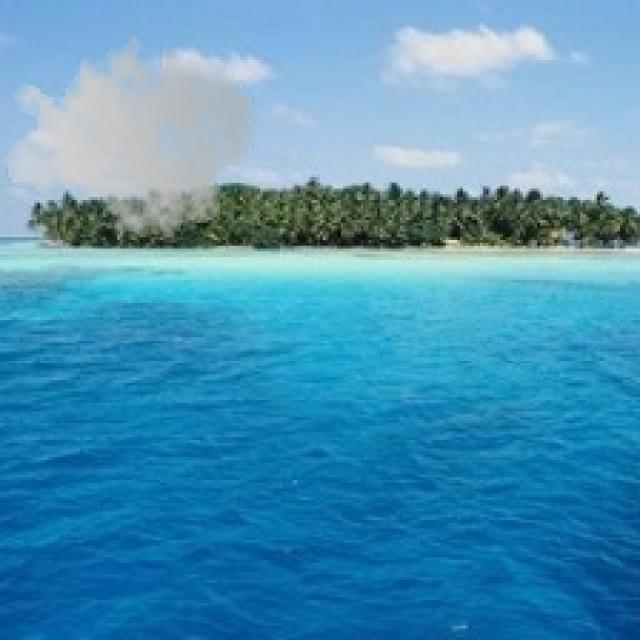smoke: (3, 23, 257, 248)
